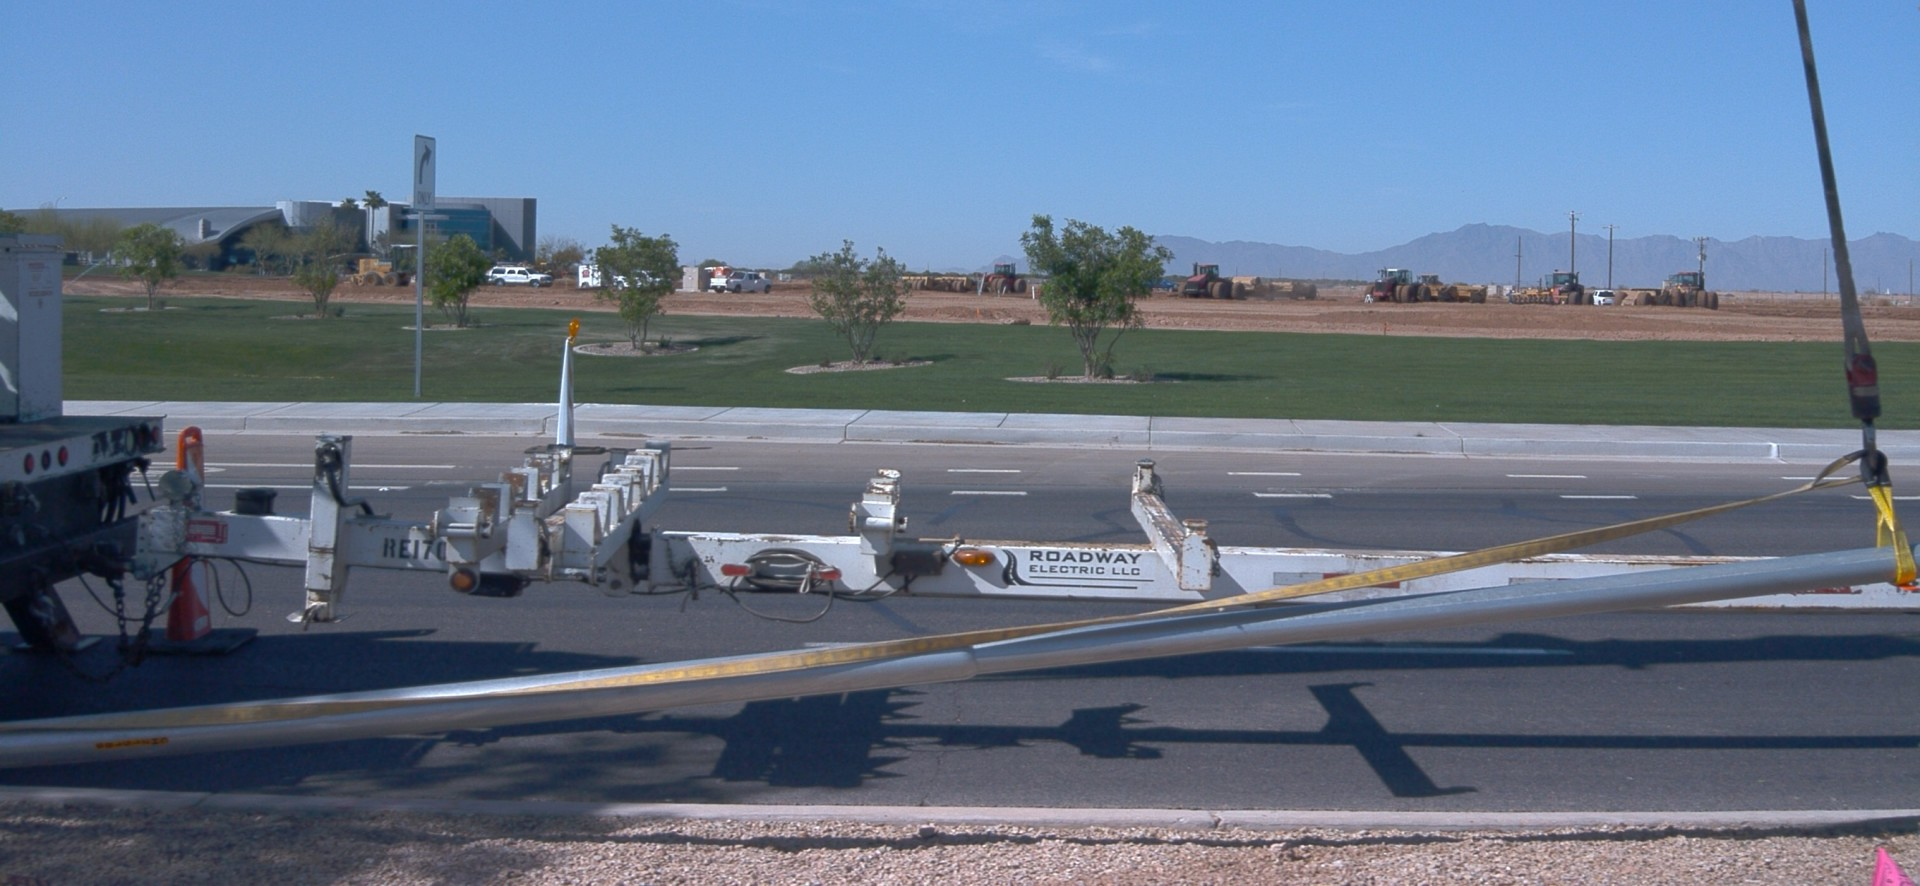TYPE_VEHICLE: (186, 233, 1918, 805), (0, 0, 210, 681), (356, 238, 474, 290), (1658, 269, 1720, 316), (1179, 261, 1247, 301), (1367, 266, 1436, 305), (1543, 268, 1593, 311), (975, 261, 1029, 296), (1410, 273, 1455, 308), (608, 269, 673, 293), (488, 267, 553, 291), (704, 275, 769, 296), (901, 276, 974, 292), (1612, 288, 1666, 308), (579, 267, 621, 291), (519, 258, 566, 279), (1592, 288, 1620, 309), (1142, 279, 1181, 292)
